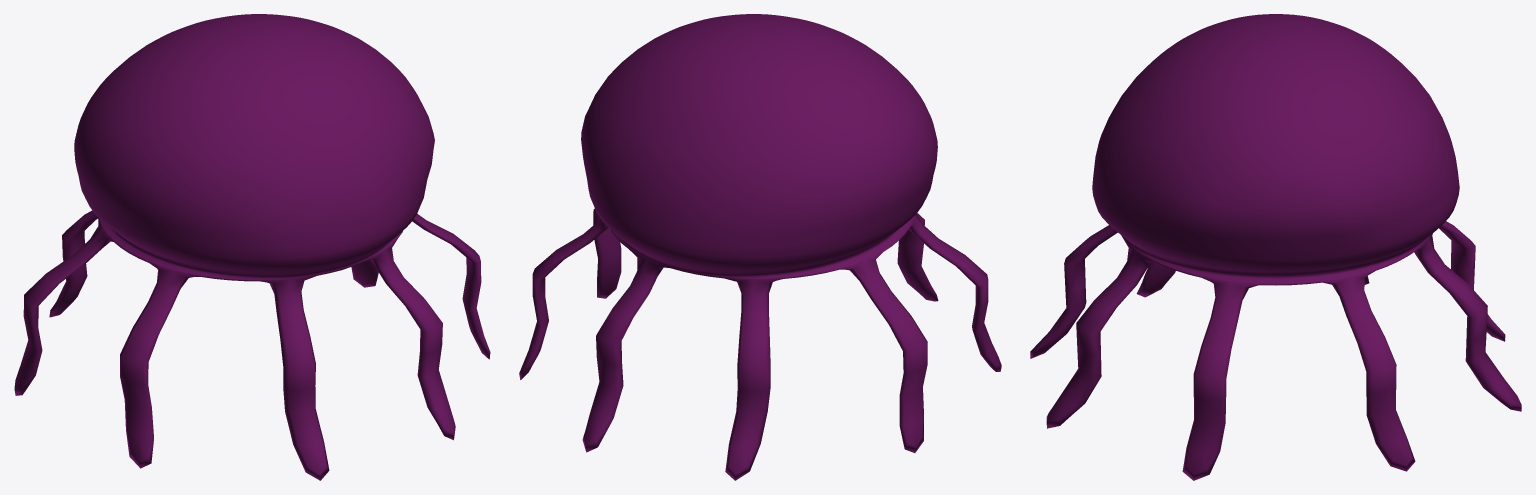
The model's file is Enemy1.FBX.
3 renders of one model, left to right at view 1: azimuth 30°, elevation 25°; view 2: azimuth 150°, elevation 25°; view 3: azimuth 270°, elevation 25°, orthographic.
Parts seen in each view (by area): view 1: Sphere001; view 2: Sphere001; view 3: Sphere001.
Boxes of the visible parts, x1=… form: Sphere001: x1=14, y1=14, x2=490, y2=480; Sphere001: x1=519, y1=14, x2=1001, y2=480; Sphere001: x1=1030, y1=14, x2=1521, y2=480.
Bounding box in the file's own units: 40.76 × 43.53 × 34.16.
Materials: 1 (1 with a texture image).
